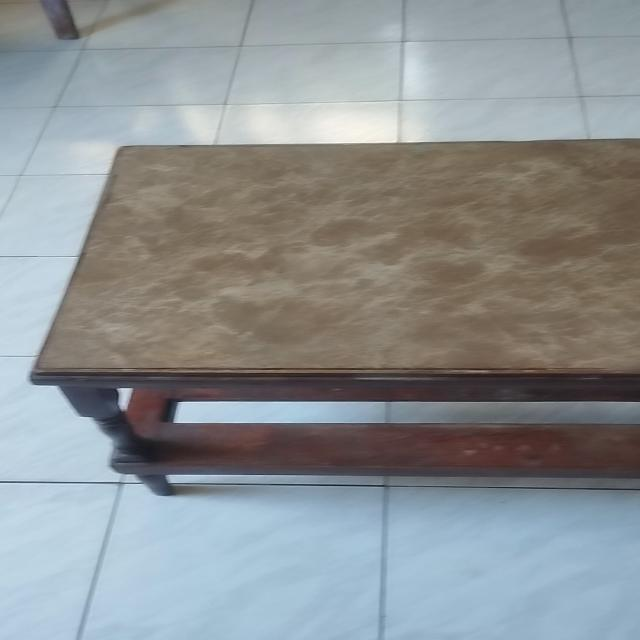table: (22, 134, 640, 500)
